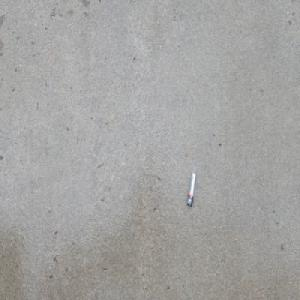Battery: (186, 172, 197, 209)
